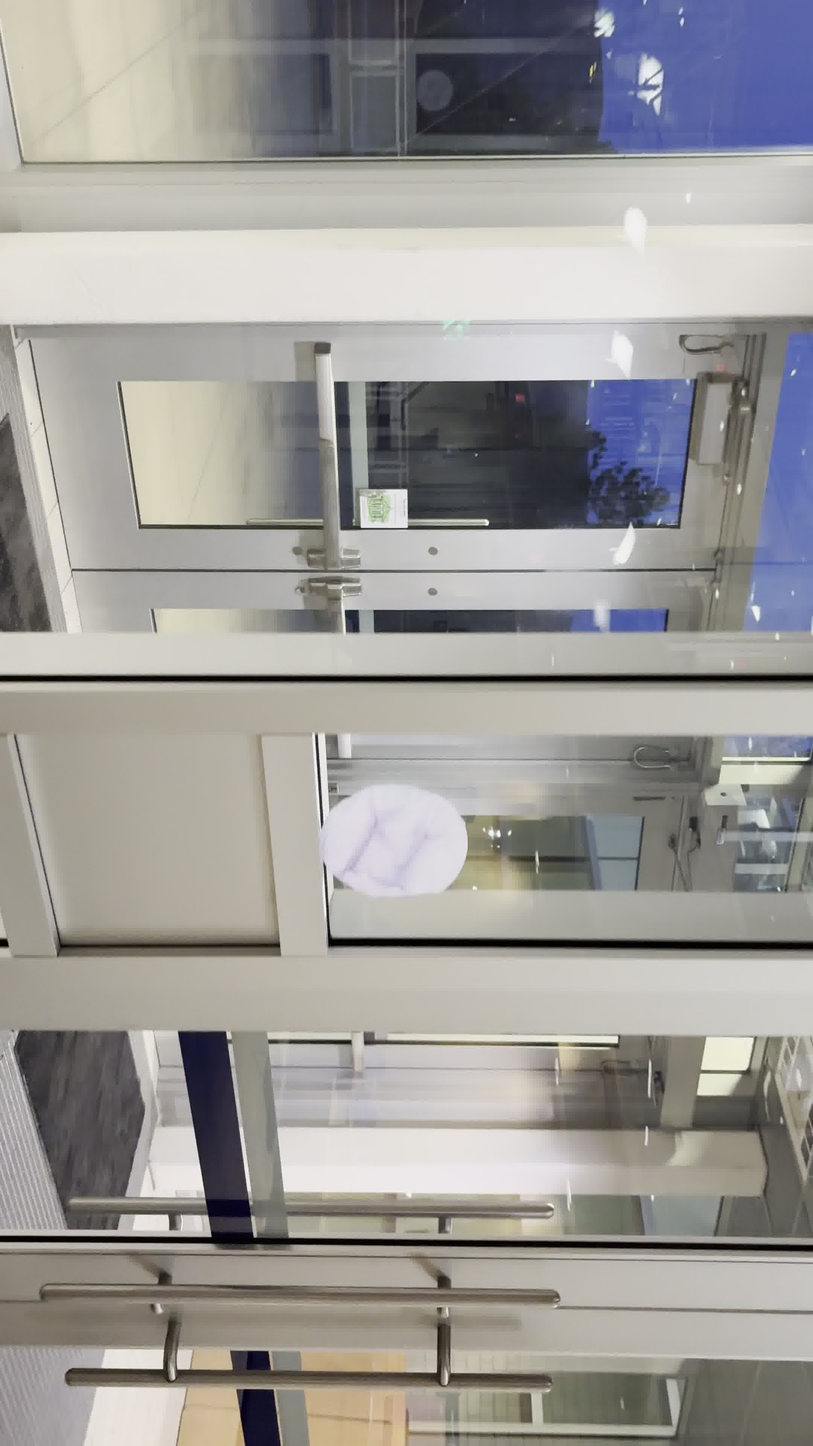Target: (318, 783, 469, 899)
